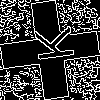K: (25, 25, 75, 65)
